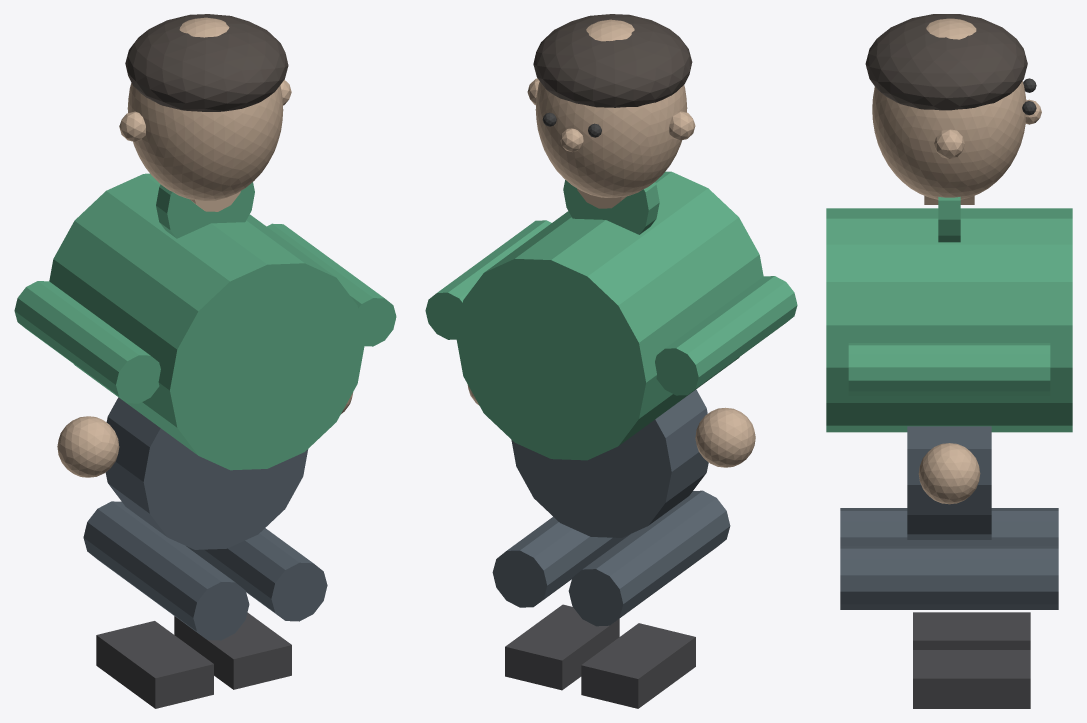
The model's file is student_green.glb.
3 renders of one model, left to right at view 1: azimuth 30°, elevation 25°; view 2: azimuth 150°, elevation 25°; view 3: azimuth 270°, elevation 25°, orthographic. The views are drawn at different scales.
Parts seen in each view (by area): view 1: torso, hips, head, hair, leg-0.16, arm-0.48, shoe-0.16, leg0.16, shoe0.16, arm0.48, hand-0.48, collar (+1 smaller); view 2: torso, hips, head, hair, leg-0.16, arm-0.48, shoe-0.16, leg0.16, shoe0.16, arm0.48, hand-0.48, collar (+1 smaller); view 3: torso, leg0.16, head, hair, arm0.48, shoe0.16, hips, leg-0.16, shoe-0.16, hand0.48, collar, ear0.29.
Part boxes in pixels (x1,y1,x2,y2): torso: (49,173,364,470); hips: (105,397,308,549); head: (127,17,283,200); hair: (125,14,288,111); leg-0.16: (83,501,249,640); arm-0.48: (14,281,160,403); shoe-0.16: (96,621,213,708); leg0.16: (186,528,327,621); shoe0.16: (174,612,291,689); arm0.48: (267,223,396,346); hand-0.48: (57,416,119,477); collar: (156,182,254,238); torso: (456,171,763,460); hips: (511,389,708,537); head: (535,19,687,197); hair: (533,14,692,107); leg-0.16: (568,490,730,626); arm-0.48: (655,276,797,395); shoe-0.16: (581,623,695,708); leg0.16: (492,516,630,607); shoe0.16: (505,604,619,690); arm0.48: (425,220,551,339); hand-0.48: (695,407,755,467); collar: (563,180,659,234); torso: (826,208,1072,432); leg0.16: (840,546,1058,609); head: (872,18,1026,199); hair: (865,14,1027,110); arm0.48: (848,343,1050,395); shoe0.16: (913,650,1030,708); hips: (907,426,991,539); leg-0.16: (840,508,1058,545); shoe-0.16: (913,612,1030,649); hand0.48: (918,443,980,504); collar: (938,197,960,242); ear0.29: (934,129,964,158).
Size of the model in its own units: 1.18 by 2.57 by 0.88.
